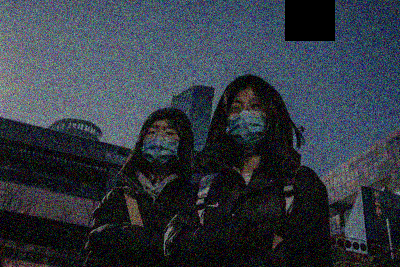with_mask: (225, 96, 271, 155), (140, 123, 180, 169)
